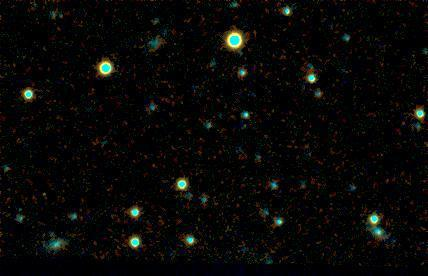star: (26, 183, 56, 213)
